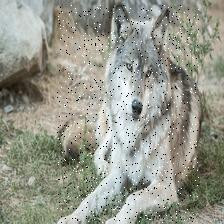WOLF: (57, 6, 199, 224)
